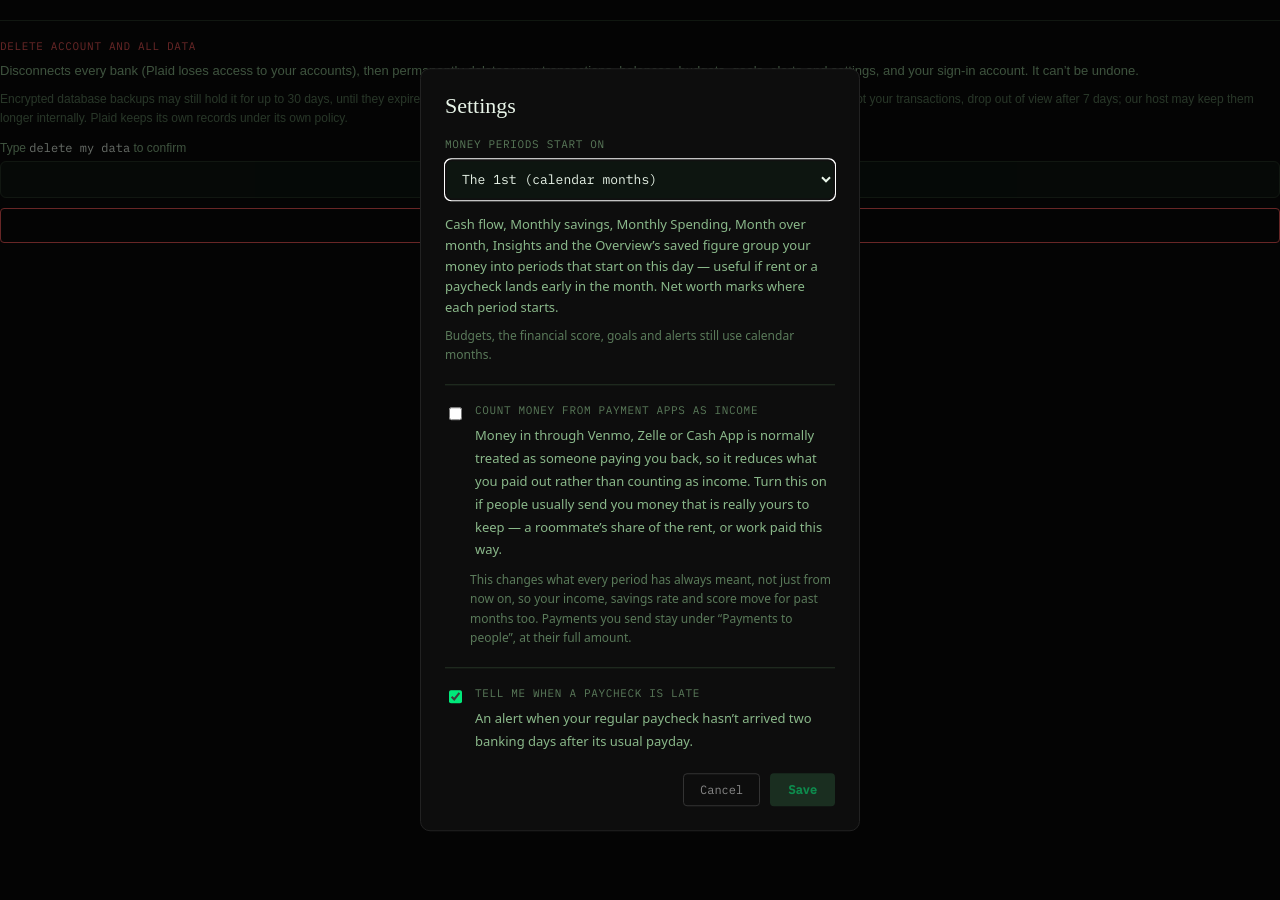
Test: the missed-paycheck setting › demo mode: shows the stored setting, a change gets the demo message at once, and nothing moves
Click the 2nd checkbox: click(456, 697) [449,689,462,704]
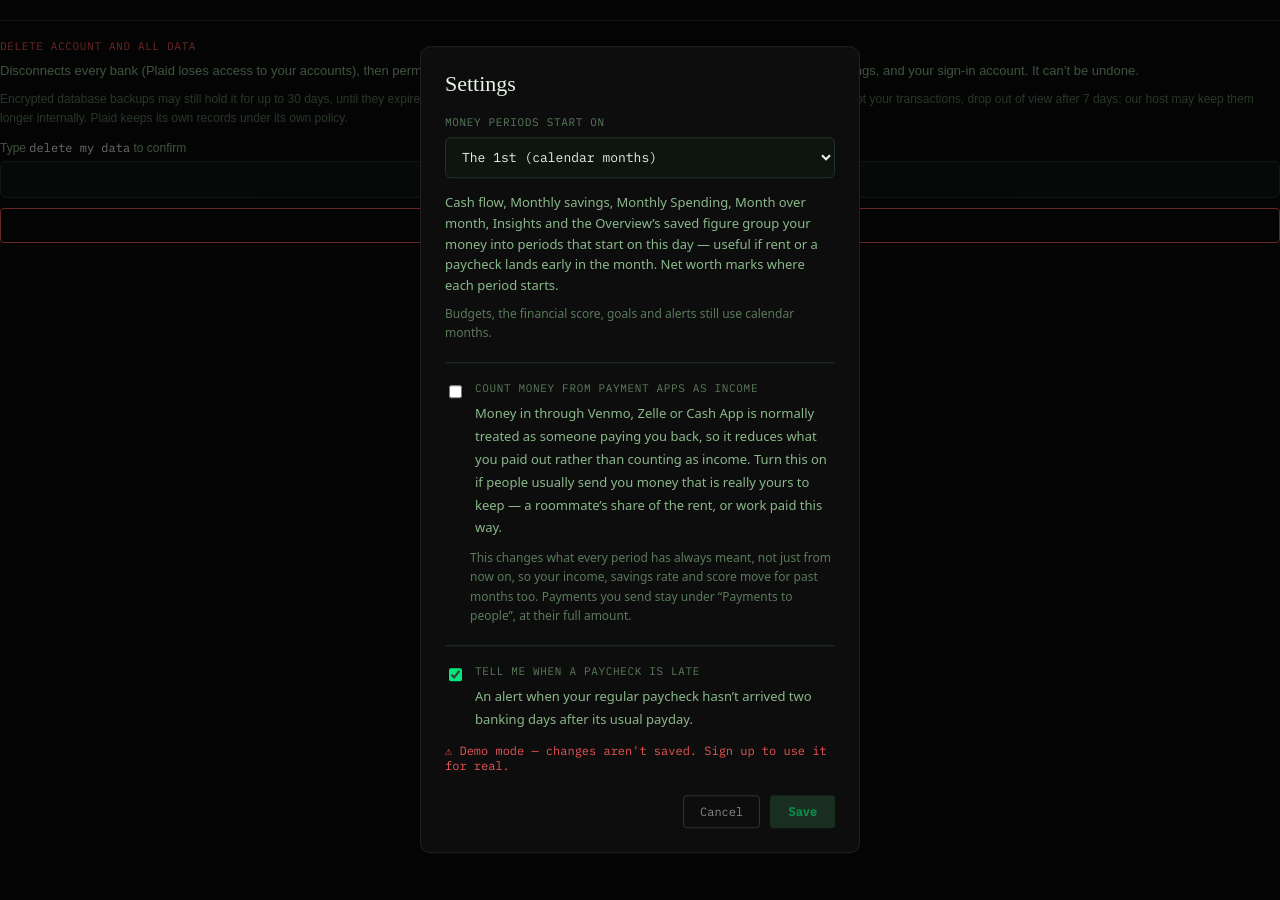
Check: the 2nd checkbox is checked, box [449,667,462,682]
Check: the message "⚠ Demo mode — changes aren't saved. Sign up to use it for real." is shown, box [445,744,835,774]
